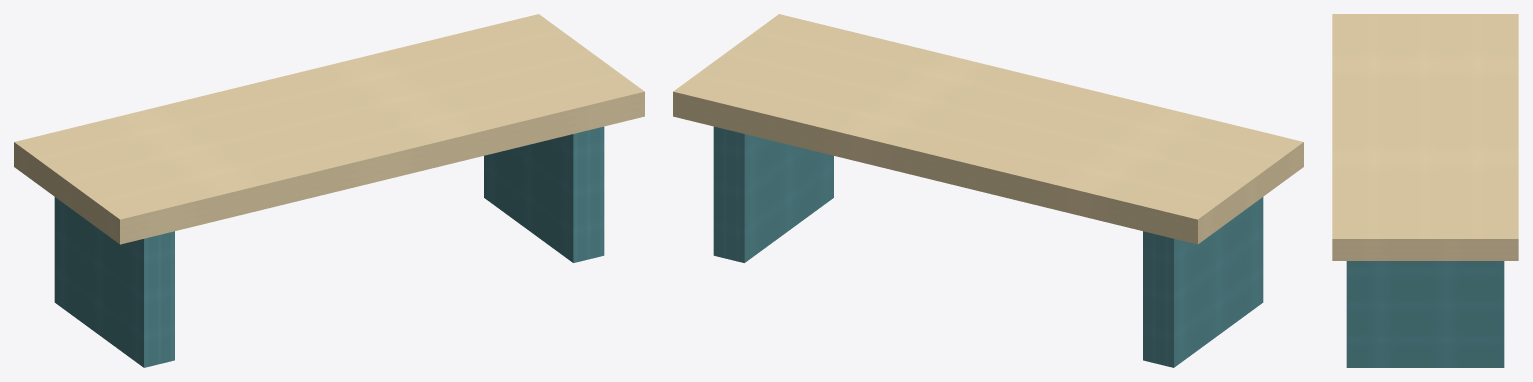
Rendered from atlas100-atompunk-util03.lod2.glb.
3 views of the same model, side by side, from view 1: azimuth 30°, elevation 25°; view 2: azimuth 150°, elevation 25°; view 3: azimuth 270°, elevation 25° (orthographic). The views are drawn at different scales.
Visible parts, largest first — view 1: atlas100-atompunk-util03:part-002, atlas100-atompunk-util03:part-000, atlas100-atompunk-util03:part-001; view 2: atlas100-atompunk-util03:part-002, atlas100-atompunk-util03:part-000, atlas100-atompunk-util03:part-001; view 3: atlas100-atompunk-util03:part-002, atlas100-atompunk-util03:part-001.
Boxes of the visible parts, x1,y1,x2,y2 form: atlas100-atompunk-util03:part-002: (14,14,644,244); atlas100-atompunk-util03:part-000: (54,197,174,367); atlas100-atompunk-util03:part-001: (484,126,604,262); atlas100-atompunk-util03:part-002: (673,14,1303,244); atlas100-atompunk-util03:part-000: (1143,197,1263,367); atlas100-atompunk-util03:part-001: (713,126,833,262); atlas100-atompunk-util03:part-002: (1332,14,1518,260); atlas100-atompunk-util03:part-001: (1346,261,1504,367).
Bounding box in the file's own units: 2.3 × 0.6799 × 0.8054.
Materials: 2 (2 with a texture image).
